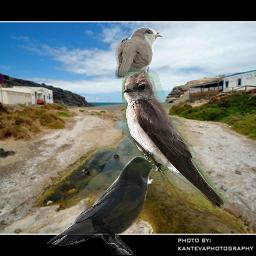Crow: (47, 156, 166, 255)
Cuckoo: (115, 27, 162, 79)
Swallow: (122, 71, 228, 210)
